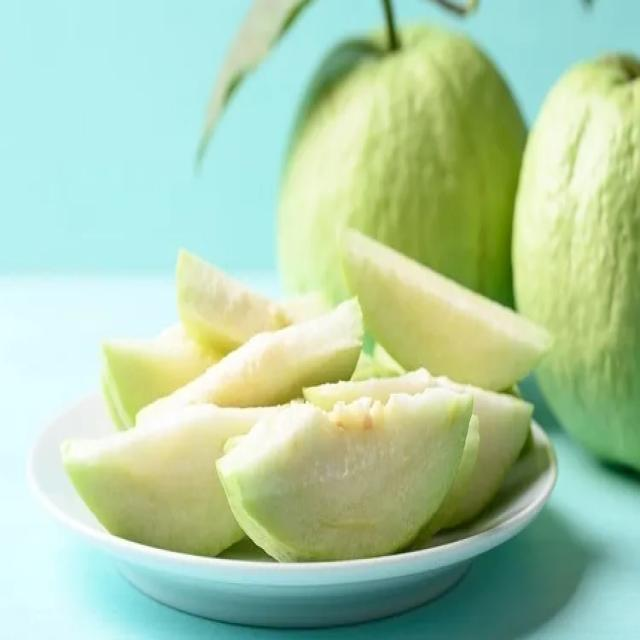oi: (277, 24, 527, 306), (512, 55, 639, 469), (219, 390, 478, 558), (340, 230, 550, 390), (63, 405, 274, 555), (165, 300, 362, 405), (176, 250, 319, 350), (431, 388, 532, 529), (103, 326, 222, 428)
